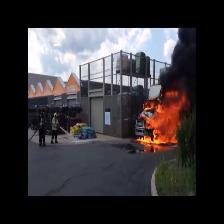fire: (147, 97, 185, 144)
smoke: (168, 32, 195, 93)
